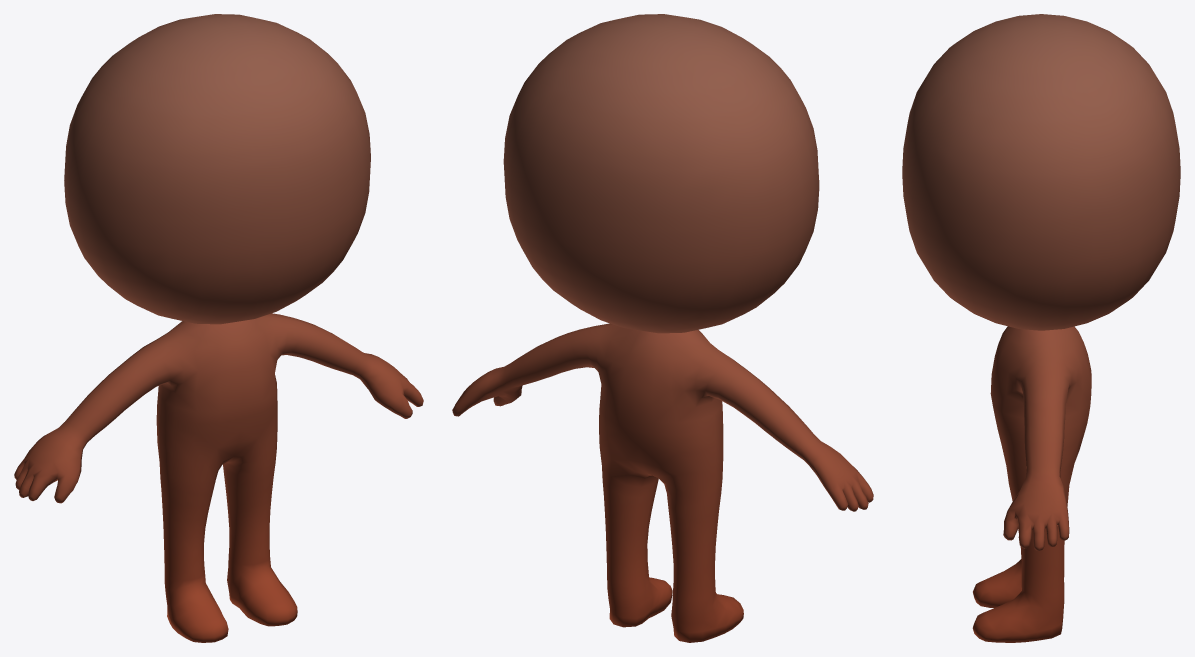
The model's file is Body_12.glb.
The picture shows the model from 3 angles, left to right: view 1: azimuth 30°, elevation 25°; view 2: azimuth 150°, elevation 25°; view 3: azimuth 270°, elevation 25°; orthographic projection. The views are drawn at different scales.
Parts seen in each view (by area): view 1: Body_12; view 2: Body_12; view 3: Body_12.
Boxes of the visible parts, x1,y1,x2,y2 form: Body_12: [14, 14, 423, 642]; Body_12: [452, 14, 873, 642]; Body_12: [902, 14, 1180, 642].
Size of the model in its own units: 0.828 by 1.15 by 0.4965.
Materials: 1 (1 with a texture image).
